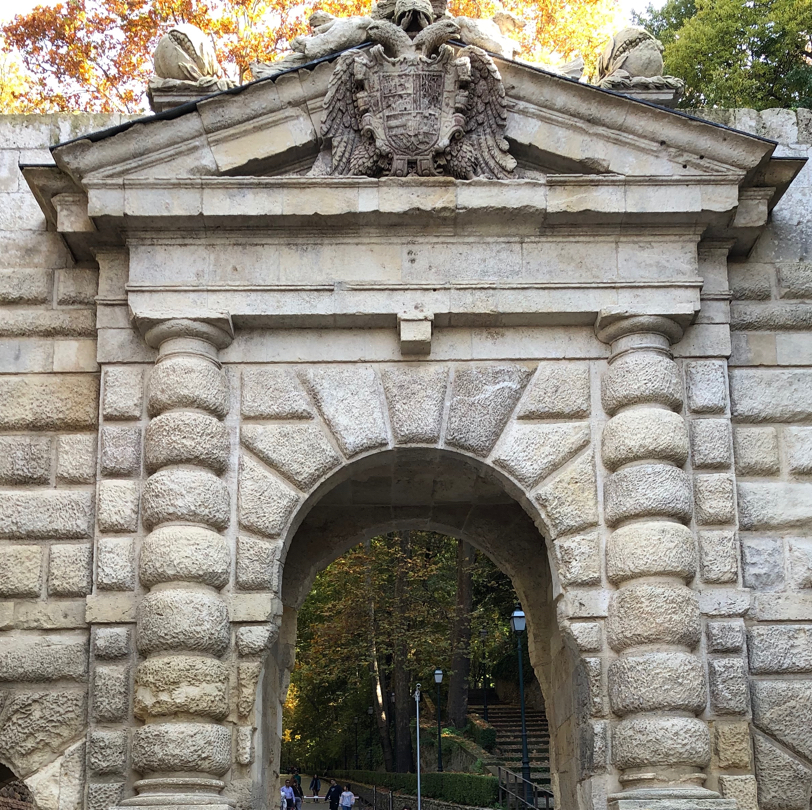arco-medio-punto: (265, 435, 580, 617)
fronton: (48, 32, 788, 226)
